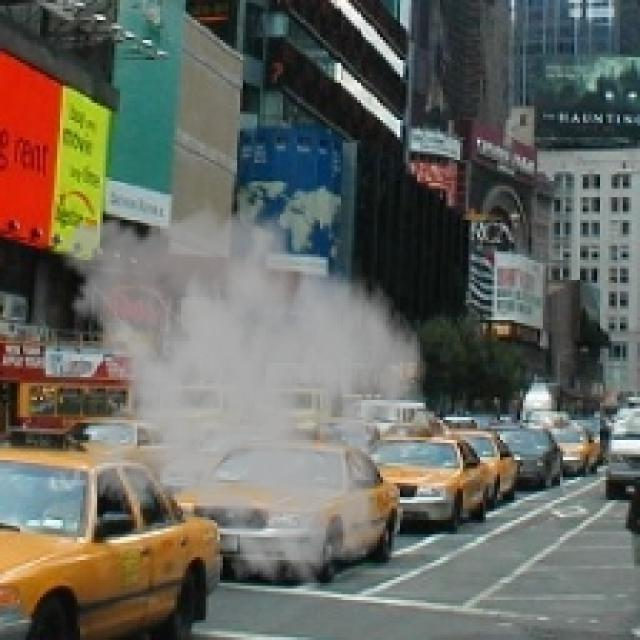Smoke: (46, 194, 428, 597)
